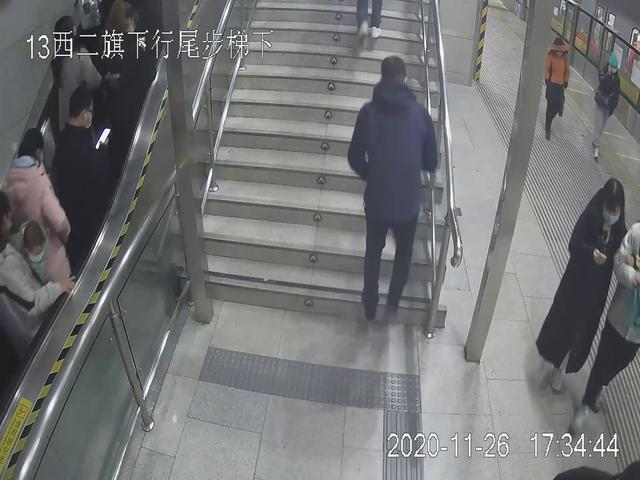person: (342, 50, 447, 334), (536, 176, 630, 379), (3, 123, 77, 294), (588, 49, 624, 162), (540, 36, 578, 139)
